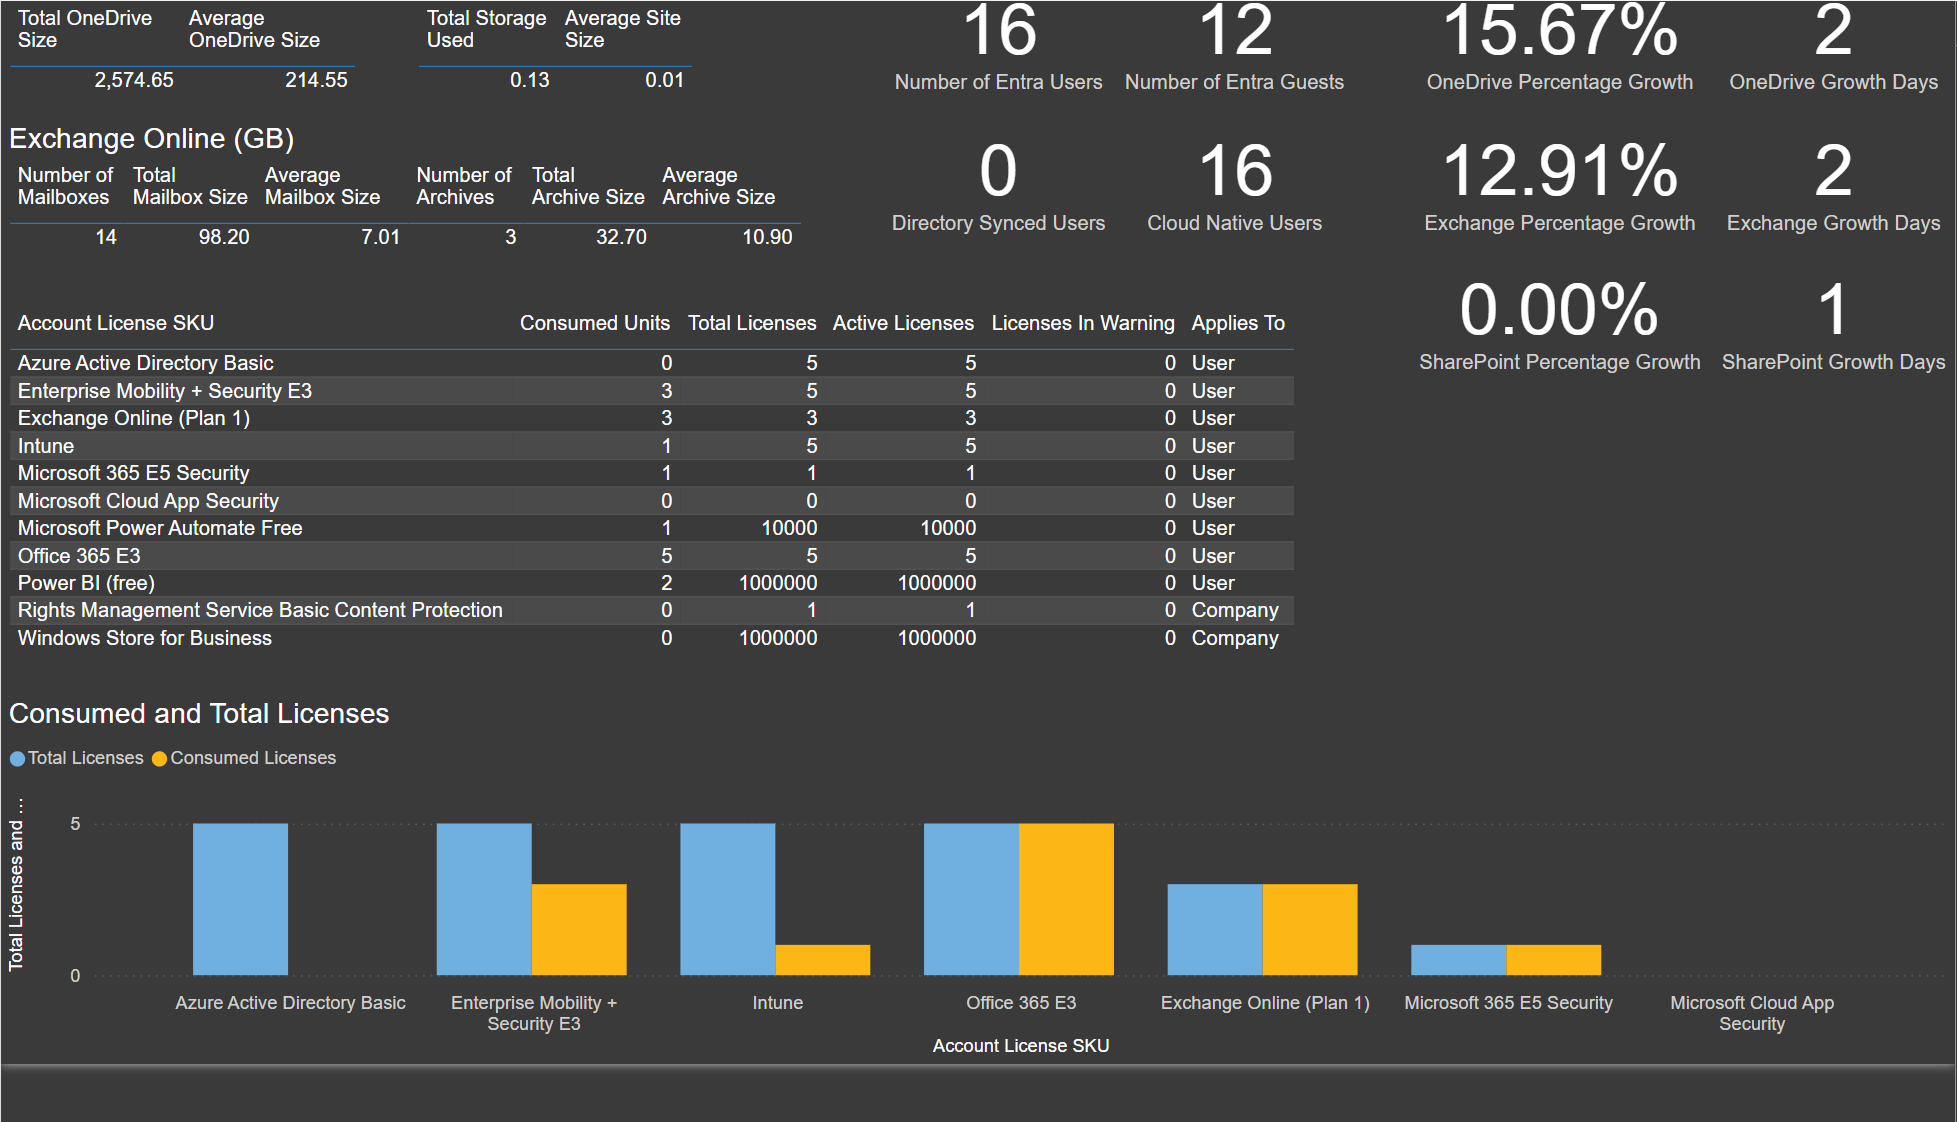

What the dashboard file says about the page in this screenshot:
{"tool":"powerbi","page":{"name":"Data Overview","canvas":[1280,720],"ordinal":1},"visuals":[{"type":"tableEx","title":"OneDrive (GB)","fields":{"Values":["Sum(O4B.CurrentUsage)1","Avg(O4B.CurrentUsage)"]},"box":[0,0,268.1,92.8],"z":0},{"type":"tableEx","title":"Exchange Online (GB)","fields":{"Values":["EXO.Alias","Sum(Averages.Total Mailbox Size)","Sum(Averages.Average Mailbox Size)","CountNonNull(EXO.Archive_ItemCount)","Sum(Averages.Total Archive Size)","Sum(Averages.Average Archive Size)"]},"box":[0,102.6,536.2,119],"z":1000},{"type":"card","fields":{"Values":["Sum(Calculated Data.Number of Users)"]},"box":[576.4,0,154.4,92.5],"z":2000},{"type":"card","fields":{"Values":["Sum(Calculated Data.Number of Guests)"]},"box":[730.7,0,154.4,92.5],"z":3000},{"type":"card","fields":{"Values":["Sum(Calculated Data.Cloud Native Users)"]},"box":[730.7,92.5,154.4,92.5],"z":4000},{"type":"card","fields":{"Values":["Sum(Calculated Data.Directory Synced Users)"]},"box":[576.4,92.5,154.4,92.5],"z":5000},{"type":"tableEx","fields":{"Values":["Licenses.Account License SKU","Licenses.Consumed Units","Licenses.Total Licenses","Licenses.Active Licenses","Licenses.Licenses In Warning","Licenses.Applies To"]},"box":[0,221.6,862.8,258.1],"z":6000},{"type":"clusteredColumnChart","title":"Consumed and Total Licenses","fields":{"Y":["Sum(Licenses.Total Licenses)","Sum(Licenses.Consumed Units)"],"Category":["Licenses.Account License SKU"]},"box":[0,479.7,1280,240.2],"z":7000},{"type":"card","fields":{"Values":["Sum(Calculated Data.OneDrive Percentage Growth)"]},"box":[921,0,200.6,92.8],"z":8000},{"type":"card","fields":{"Values":["Sum(Calculated Data.Exchange Growth Period)"]},"box":[1121.5,92.5,158.5,92.5],"z":9000},{"type":"card","fields":{"Values":["Sum(Calculated Data.Exchange Percentage Growth)"]},"box":[921,92.8,200.6,92],"z":10000},{"type":"card","fields":{"Values":["Sum(Calculated Data.OneDrive Growth Period)"]},"box":[1121.5,0,158.5,92.5],"z":11000},{"type":"card","fields":{"Values":["Sum(Calculated Data.SharePoint Growth Period)"]},"box":[1121.6,184,158.4,92],"z":12000},{"type":"card","fields":{"Values":["Sum(Calculated Data.SharePoint Percentage Growth)"]},"box":[921,184,200.6,92],"z":13000},{"type":"tableEx","title":"SharePoint (GB)","fields":{"Values":["Sum(SPO.Storage used (GB))","Avg(SPO.Storage used (GB))"]},"box":[268.1,0,196.6,92.8],"z":14000}]}

Visuals, with their boxes in screenshot pixels (x1, y1, x2, y2), scaled from the page's 1280x720 canvas onto the 1957x1122 screenshot:
"OneDrive (GB)" tableEx: {"x1": 0, "y1": 0, "x2": 410, "y2": 145}
"Exchange Online (GB)" tableEx: {"x1": 0, "y1": 160, "x2": 820, "y2": 345}
card - Sum(Calculated Data.Number of Users): {"x1": 881, "y1": 0, "x2": 1117, "y2": 144}
card - Sum(Calculated Data.Number of Guests): {"x1": 1117, "y1": 0, "x2": 1353, "y2": 144}
card - Sum(Calculated Data.Cloud Native Users): {"x1": 1117, "y1": 144, "x2": 1353, "y2": 288}
card - Sum(Calculated Data.Directory Synced Users): {"x1": 881, "y1": 144, "x2": 1117, "y2": 288}
tableEx - Licenses.Account License SKU x Licenses.Consumed Units: {"x1": 0, "y1": 345, "x2": 1319, "y2": 748}
"Consumed and Total Licenses" clusteredColumnChart: {"x1": 0, "y1": 748, "x2": 1956, "y2": 1121}
card - Sum(Calculated Data.OneDrive Percentage Growth): {"x1": 1408, "y1": 0, "x2": 1715, "y2": 145}
card - Sum(Calculated Data.Exchange Growth Period): {"x1": 1715, "y1": 144, "x2": 1956, "y2": 288}
card - Sum(Calculated Data.Exchange Percentage Growth): {"x1": 1408, "y1": 145, "x2": 1715, "y2": 288}
card - Sum(Calculated Data.OneDrive Growth Period): {"x1": 1715, "y1": 0, "x2": 1956, "y2": 144}
card - Sum(Calculated Data.SharePoint Growth Period): {"x1": 1715, "y1": 287, "x2": 1956, "y2": 430}
card - Sum(Calculated Data.SharePoint Percentage Growth): {"x1": 1408, "y1": 287, "x2": 1715, "y2": 430}
"SharePoint (GB)" tableEx: {"x1": 410, "y1": 0, "x2": 710, "y2": 145}
